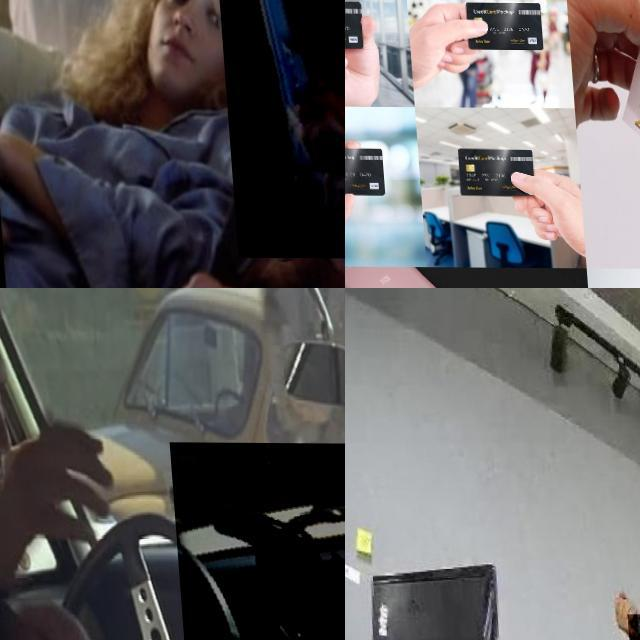-: (621, 614, 640, 640)
gun-knife-thesis - v11 Yolov5 augmented: (166, 441, 345, 640), (211, 0, 345, 258)
